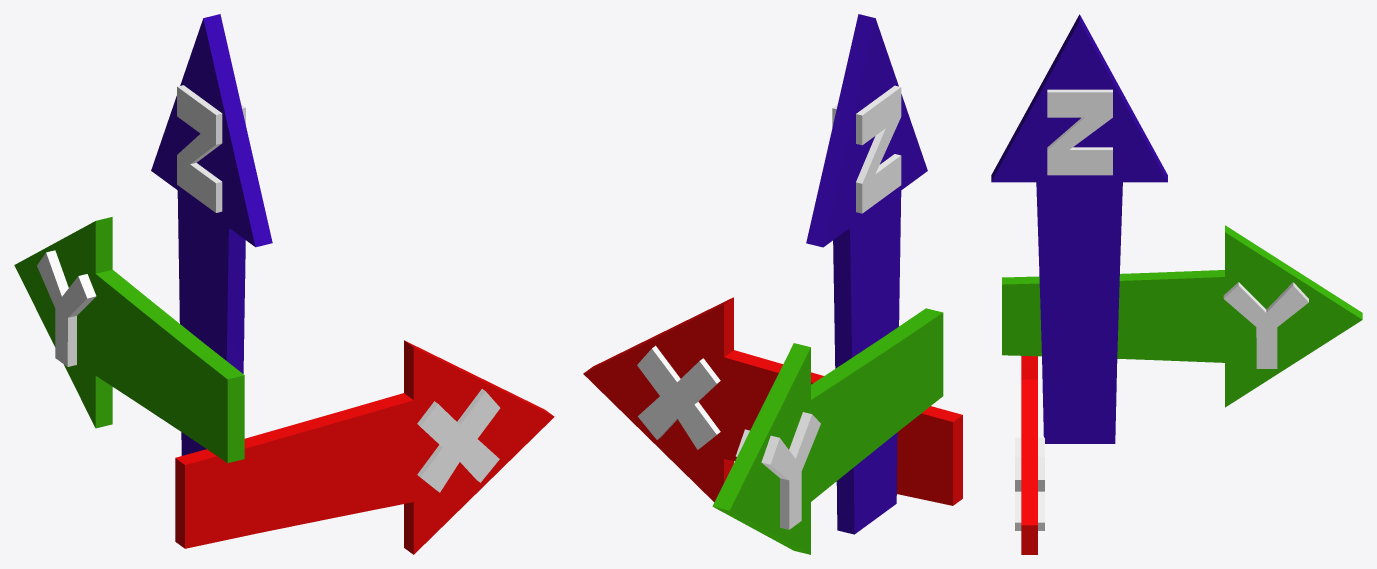
File: unit.dae
3 views of the same model, side by side, from view 1: azimuth 30°, elevation 25°; view 2: azimuth 150°, elevation 25°; view 3: azimuth 270°, elevation 25° (orthographic). The views are drawn at different scales.
Parts seen in each view (by area): view 1: Box03; view 2: Box03; view 3: Box03.
Part boxes in pixels (x1,y1,x2,y2): Box03: (14,14,554,554); Box03: (583,14,962,554); Box03: (991,14,1362,554).
Size of the model in its own units: 5.38 by 7.72 by 5.54.
